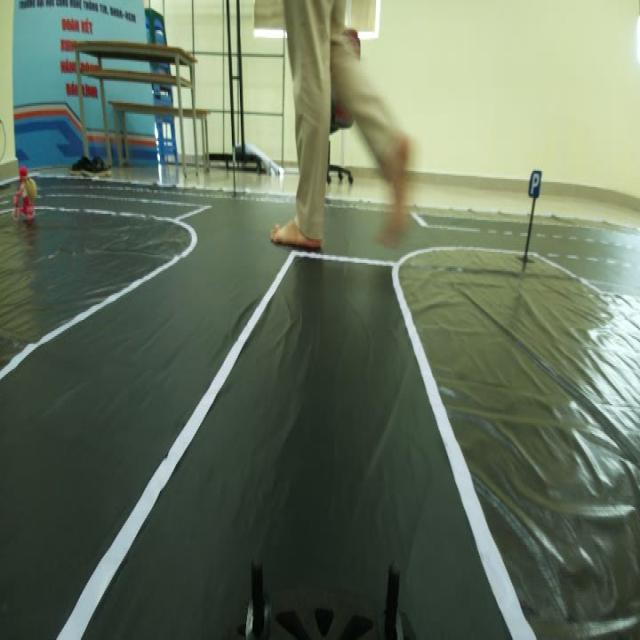parking: (525, 164, 544, 210)
